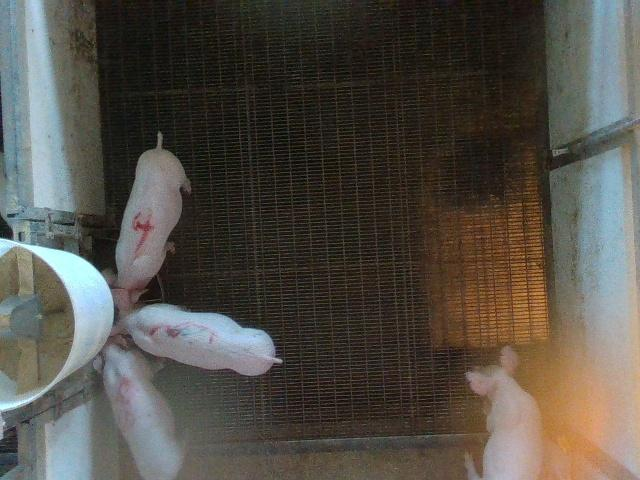pig-3: (111, 289, 281, 376)
pig-4: (102, 131, 191, 302)
pig-5: (101, 342, 182, 479)
